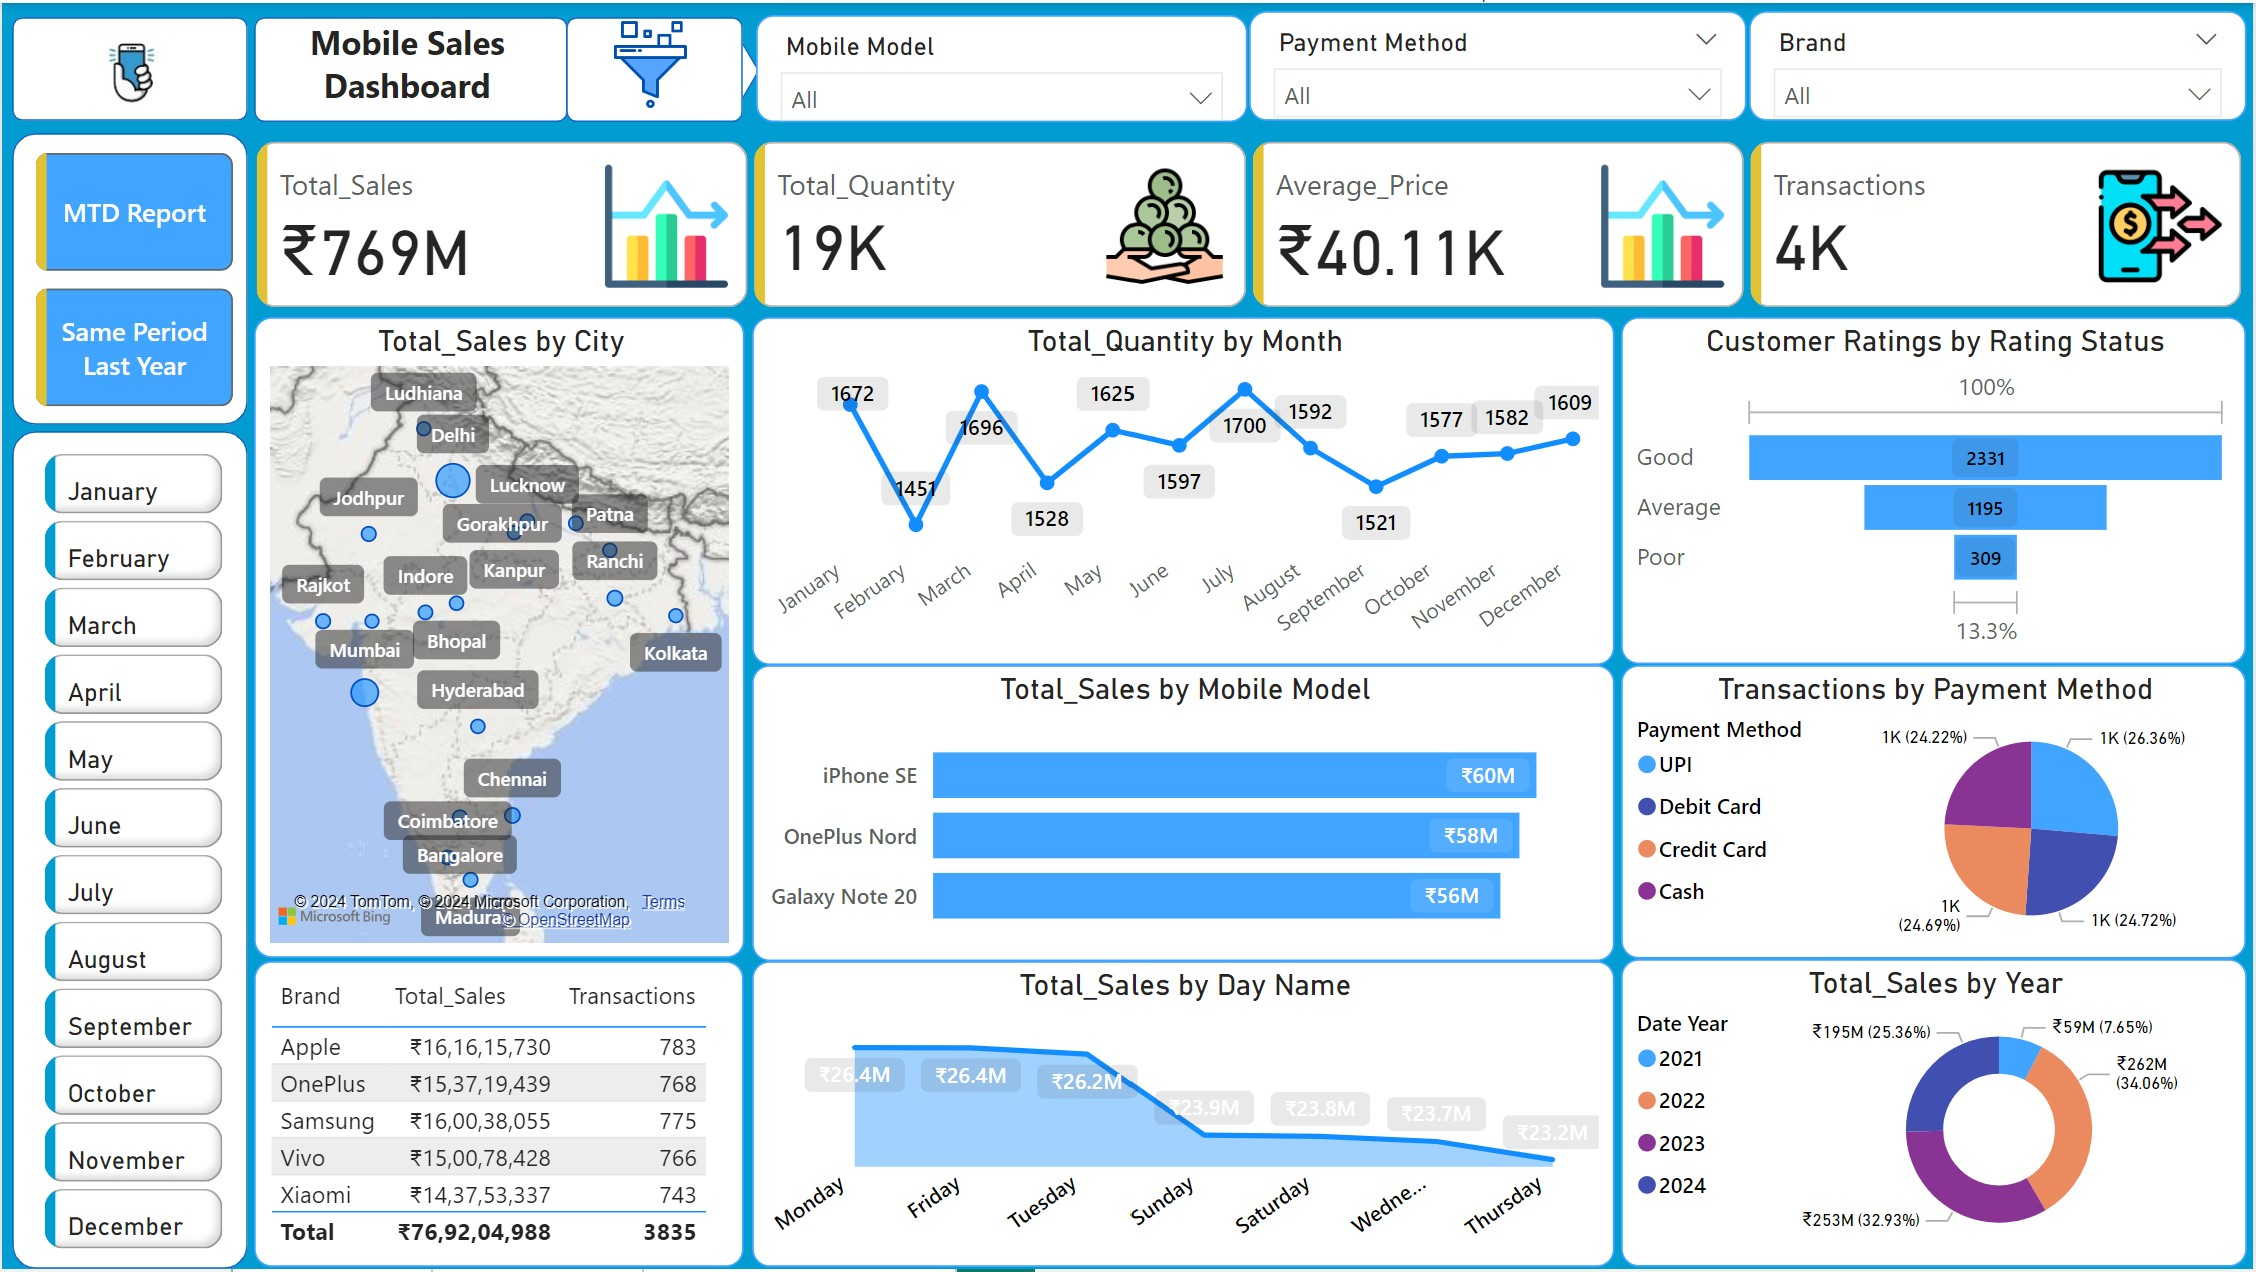

The page's visual inventory and layout, read from the dashboard file:
{"tool":"powerbi","page":{"name":"Dashboard","canvas":[1280,720],"ordinal":0},"visuals":[{"type":"shape","box":[142.8,7.6,178.5,59.9],"z":0},{"type":"shape","box":[400.3,12.7,30.6,52.3],"z":1000},{"type":"shape","box":[321.3,7.6,100.7,59.9],"z":2000},{"type":"shape","box":[5.7,8,134.2,59.1],"z":3000},{"type":"image","box":[26.8,12.7,94.3,52.3],"z":4000},{"type":"shape","box":[5.7,73.9,134.2,166.1],"z":5000},{"type":"shape","box":[5.7,243.4,134.2,476.6],"z":6000},{"type":"advancedSlicerVisual","fields":{"Values":["Custom_Calendar.Date.Variation.Date Hierarchy.Month"]},"box":[19.3,251.4,111.5,467.5],"z":7000},{"type":"cardVisual","fields":{"Data":["Sales Data.Total_Sales","Sales Data.Total_Quantity","Sales Data.Average_Price","Sales Data.Transactions"]},"box":[140.2,73.9,1139.8,104.5],"z":8000},{"type":"slicer","fields":{"Values":["Sales Data.Mobile Model"]},"box":[428.4,6.4,279.2,61.2],"z":9000},{"type":"slicer","fields":{"Values":["Sales Data.Payment Method"]},"box":[708.8,5.1,283,62.5],"z":10000},{"type":"slicer","fields":{"Values":["Sales Data.Brand"]},"box":[993.1,5.1,283,62.5],"z":11000},{"type":"image","box":[321.3,5.1,95.6,61.2],"z":12000},{"type":"textbox","box":[140.2,5.1,181,63.7],"z":13000},{"type":"map","fields":{"Category":["Sales Data.City"],"Size":["Sales Data.Total_Sales"]},"box":[142.8,178.5,279.2,364.6],"z":14000},{"type":"lineChart","fields":{"Category":["Custom_Calendar.Date.Variation.Date Hierarchy.Month"],"Y":["Sales Data.Total_Quantity"]},"box":[426.5,178.6,490.2,197.9],"z":15000},{"type":"funnel","title":"Customer Ratings by Rating Status","fields":{"Category":["Sales Data.Rating Status"],"Y":["CountNonNull(Sales Data.Customer Ratings)"]},"box":[920.5,178.5,355.7,197.6],"z":16000},{"type":"pieChart","fields":{"Y":["Sales Data.Transactions"],"Category":["Sales Data.Payment Method"]},"box":[920.5,376.1,355.7,167],"z":17000},{"type":"clusteredBarChart","fields":{"Y":["Sales Data.Total_Sales"],"Category":["Sales Data.Mobile Model"]},"box":[426.5,376.5,490.2,168.3],"z":18000},{"type":"areaChart","fields":{"Y":["Sales Data.Total_Sales"],"Category":["Custom_Calendar.Day Name"]},"box":[426.5,544.8,490.2,174],"z":19000},{"type":"tableEx","fields":{"Values":["Sales Data.Brand","Sales Data.Total_Sales","Sales Data.Transactions"]},"box":[143.3,544.8,278.7,174],"z":20000},{"type":"donutChart","fields":{"Category":["Custom_Calendar.Date.Variation.Date Hierarchy.Year"],"Y":["Sales Data.Total_Sales"]},"box":[920,544,356,175],"z":20001},{"type":"pageNavigator","box":[19.1,85.4,112.2,145.3],"z":20002}]}

Visuals, with their boxes in screenshot pixels (x1, y1, x2, y2), scaled from the page's 1280x720 canvas onto the 2256x1272 screenshot:
shape: BBox(252, 13, 566, 119)
shape: BBox(706, 22, 759, 115)
shape: BBox(566, 13, 744, 119)
shape: BBox(10, 14, 247, 119)
image: BBox(47, 22, 213, 115)
shape: BBox(10, 131, 247, 424)
shape: BBox(10, 430, 247, 1271)
advancedSlicerVisual - Custom_Calendar.Date.Variation.Date Hierarchy.Month: BBox(34, 444, 231, 1270)
cardVisual - Sales Data.Total_Sales x Sales Data.Total_Quantity: BBox(247, 131, 2255, 315)
slicer - Sales Data.Mobile Model: BBox(755, 11, 1247, 119)
slicer - Sales Data.Payment Method: BBox(1249, 9, 1748, 119)
slicer - Sales Data.Brand: BBox(1750, 9, 2249, 119)
image: BBox(566, 9, 735, 117)
textbox: BBox(247, 9, 566, 122)
map - Sales Data.City x Sales Data.Total_Sales: BBox(252, 315, 744, 959)
lineChart - Custom_Calendar.Date.Variation.Date Hierarchy.Month x Sales Data.Total_Quantity: BBox(752, 316, 1616, 665)
"Customer Ratings by Rating Status" funnel: BBox(1622, 315, 2249, 664)
pieChart - Sales Data.Transactions x Sales Data.Payment Method: BBox(1622, 664, 2249, 959)
clusteredBarChart - Sales Data.Total_Sales x Sales Data.Mobile Model: BBox(752, 665, 1616, 962)
areaChart - Sales Data.Total_Sales x Custom_Calendar.Day Name: BBox(752, 962, 1616, 1270)
tableEx - Sales Data.Brand x Sales Data.Total_Sales: BBox(253, 962, 744, 1270)
donutChart - Custom_Calendar.Date.Variation.Date Hierarchy.Year x Sales Data.Total_Sales: BBox(1622, 961, 2249, 1270)
pageNavigator: BBox(34, 151, 231, 408)
